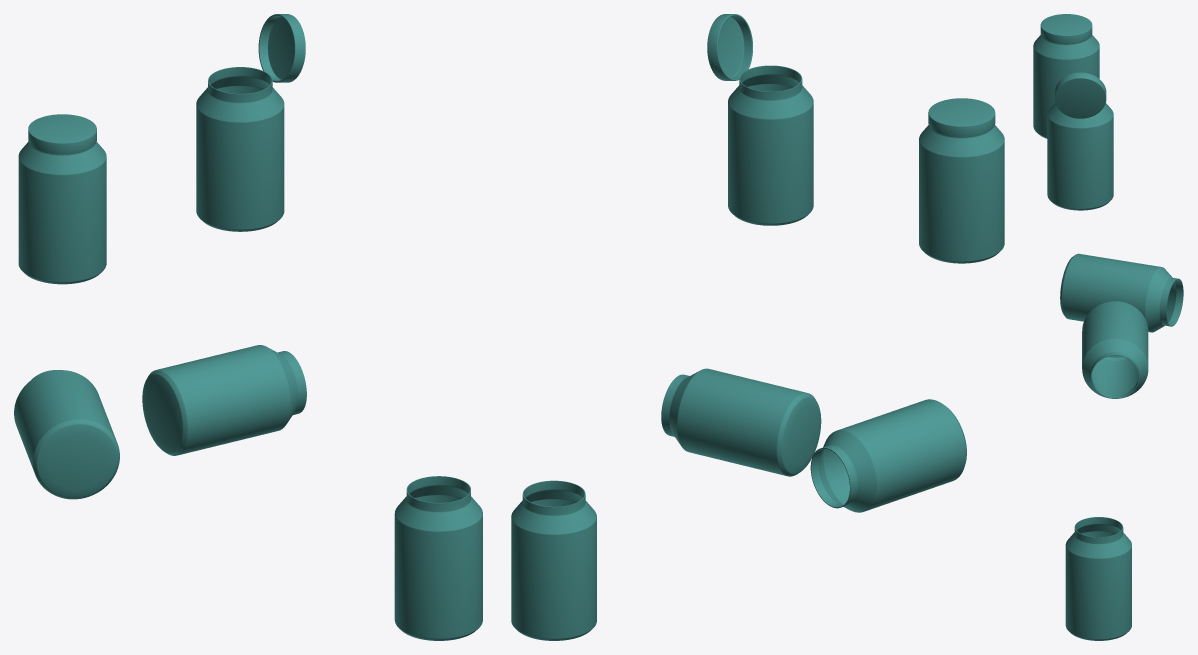
Rendered from FrascosComTampa.fbx.
The picture shows the model from 3 angles, left to right: view 1: azimuth 30°, elevation 25°; view 2: azimuth 150°, elevation 25°; view 3: azimuth 270°, elevation 25°; orthographic projection. The views are drawn at different scales.
Parts seen in each view (by area): view 1: Cylinder.059, Cylinder.063, Cylinder.061, Cylinder.058, Cylinder.062, Cylinder.060, Cylinder.057; view 2: Cylinder.059, Cylinder.063, Cylinder.061, Cylinder.062, Cylinder.058, Cylinder.060, Cylinder.057; view 3: Cylinder.063, Cylinder.062, Cylinder.059, Cylinder.061, Cylinder.058, Cylinder.060, Cylinder.057.
Part boxes in pixels (box(x1,y1,x2,y2)): Cylinder.059: box(196, 67, 284, 231); Cylinder.063: box(394, 476, 482, 640); Cylinder.061: box(142, 345, 306, 455); Cylinder.058: box(18, 142, 106, 284); Cylinder.062: box(14, 370, 119, 499); Cylinder.060: box(258, 14, 305, 82); Cylinder.057: box(28, 114, 96, 154); Cylinder.059: box(728, 65, 813, 225); Cylinder.063: box(511, 480, 596, 640); Cylinder.061: box(661, 368, 821, 476); Cylinder.062: box(810, 399, 966, 512); Cylinder.058: box(919, 125, 1004, 263); Cylinder.060: box(707, 14, 752, 80); Cylinder.057: box(928, 98, 995, 137); Cylinder.063: box(1065, 517, 1131, 640); Cylinder.062: box(1060, 253, 1183, 332); Cylinder.059: box(1047, 103, 1113, 210); Cylinder.061: box(1082, 301, 1148, 398); Cylinder.058: box(1033, 35, 1099, 138); Cylinder.060: box(1054, 72, 1106, 118); Cylinder.057: box(1040, 14, 1092, 44).
Bounding box in the file's own units: 111 × 148 × 40.54.
